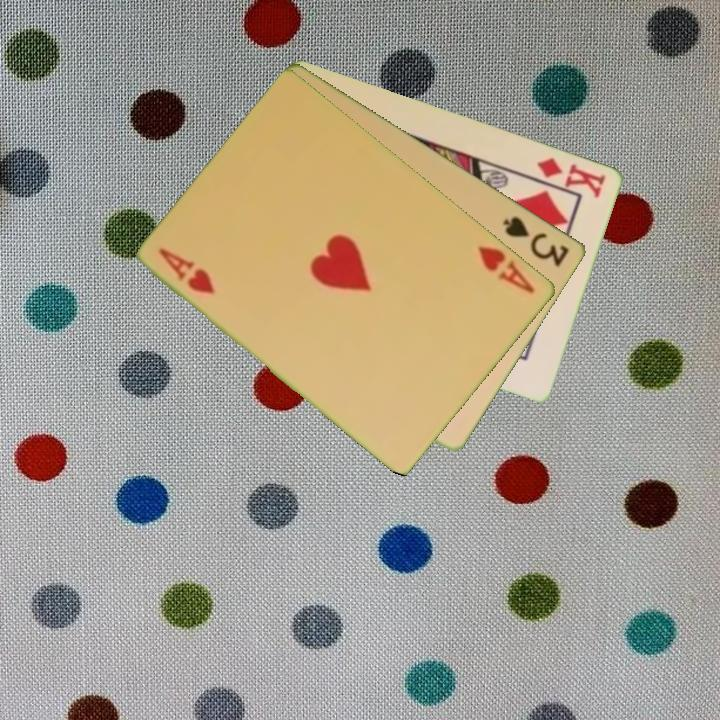3s: (499, 212, 573, 270)
Ah: (475, 242, 539, 296), (156, 244, 218, 297)
Kd: (534, 153, 609, 201)
